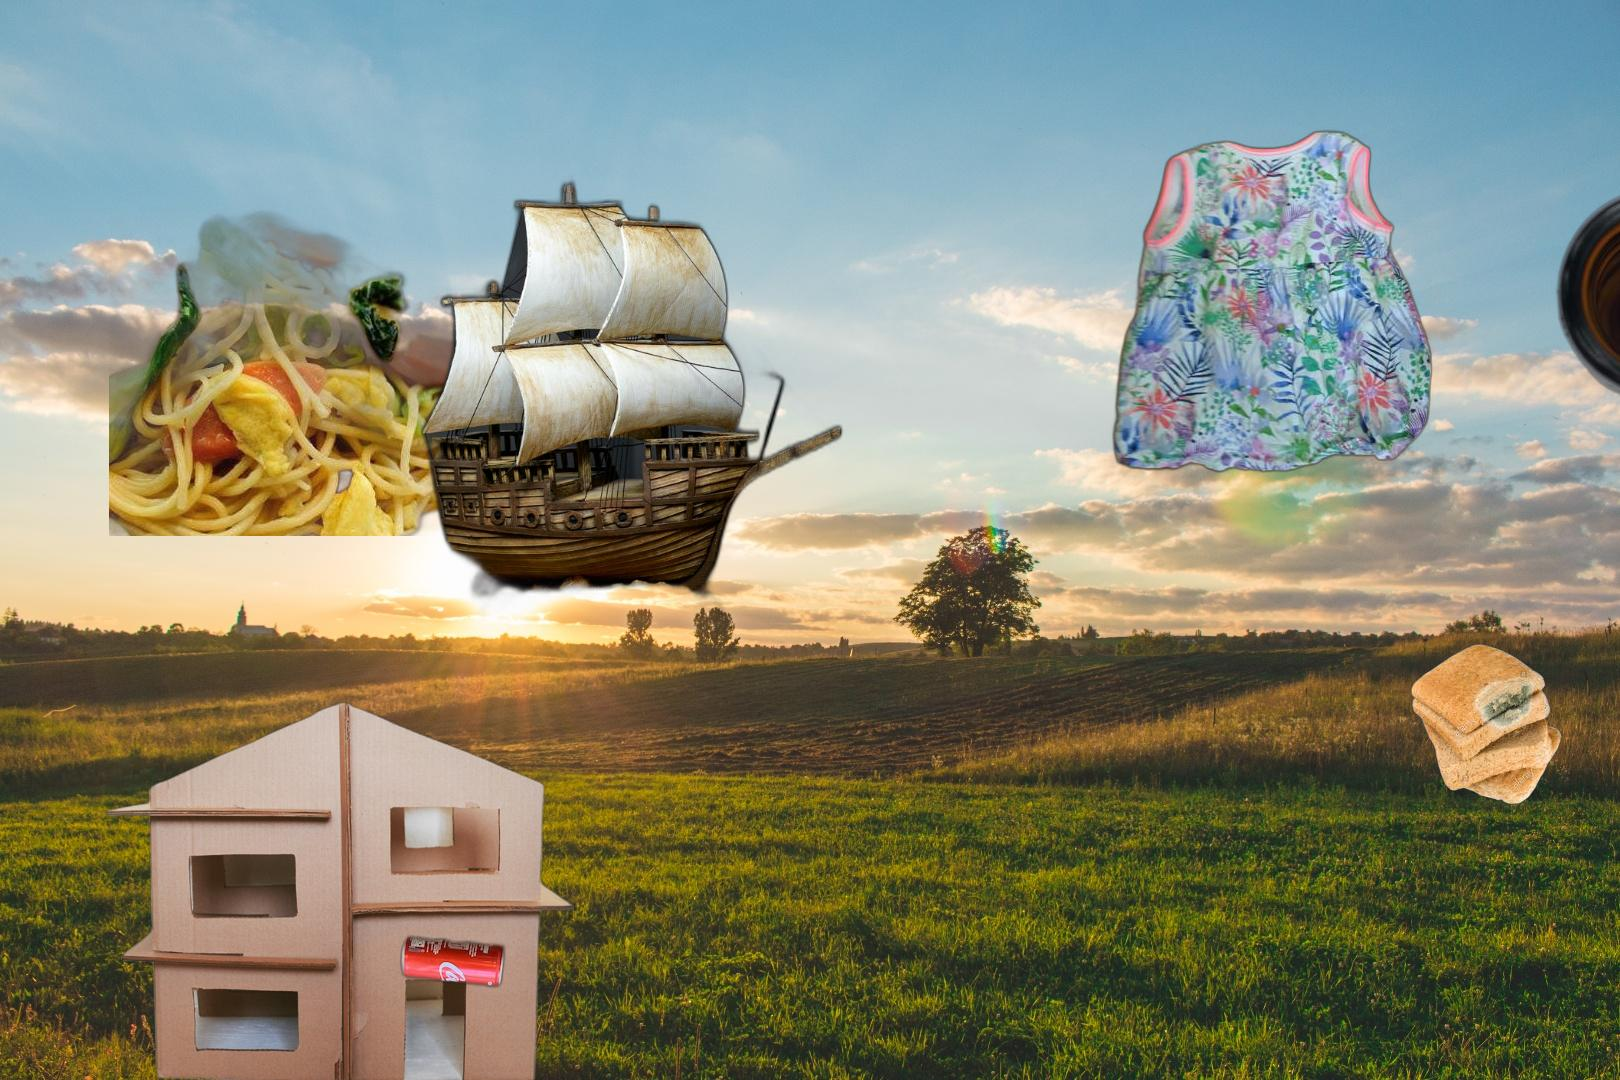biological: (109, 194, 513, 536), (1408, 641, 1565, 807)
clothes: (1110, 126, 1434, 476)
glass: (1553, 186, 1620, 403)
metal-cans: (397, 930, 509, 993)
trashbox-cardboard: (416, 172, 924, 1080), (101, 700, 580, 1080)
